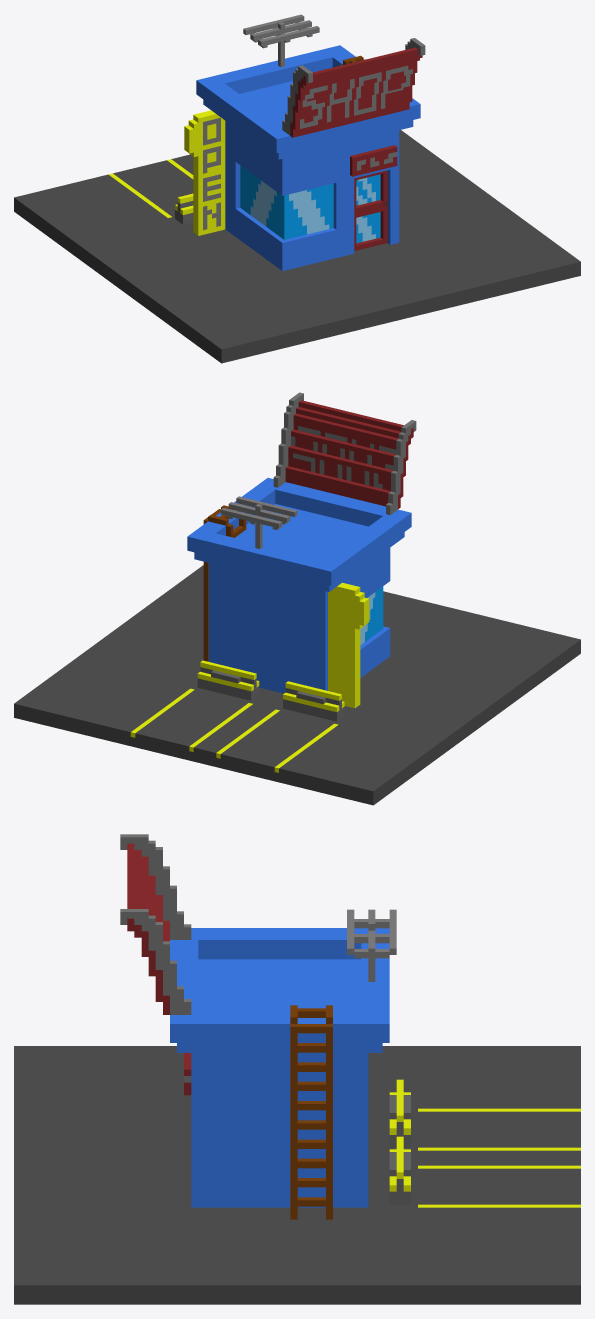
File: Shop.obj
The picture shows the model from 3 angles, top to bottom: view 1: azimuth 30°, elevation 25°; view 2: azimuth 150°, elevation 25°; view 3: azimuth 270°, elevation 25°; orthographic projection. The views are drawn at different scales.
Bounding box in the file's own units: 80 × 49 × 80.
1 material, 1 textured.
